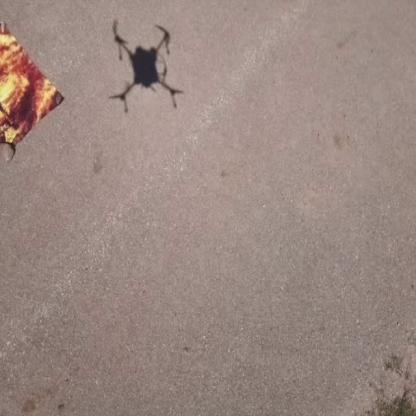fire-poster: (0, 18, 65, 163)
